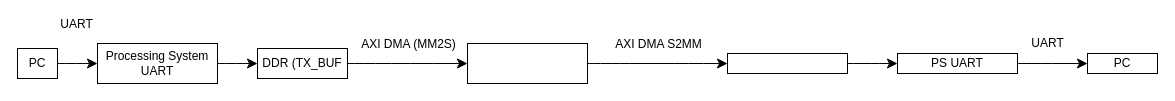
This 1175x101 diagram has some shape labels left out. Here are the shapes that lost their labels. From the top down, the centre of each, then its label:
At (x=527, y=63): "AXI Stream IP (Inverter)".
At (x=787, y=63): "DDR (RX_BUF)".
